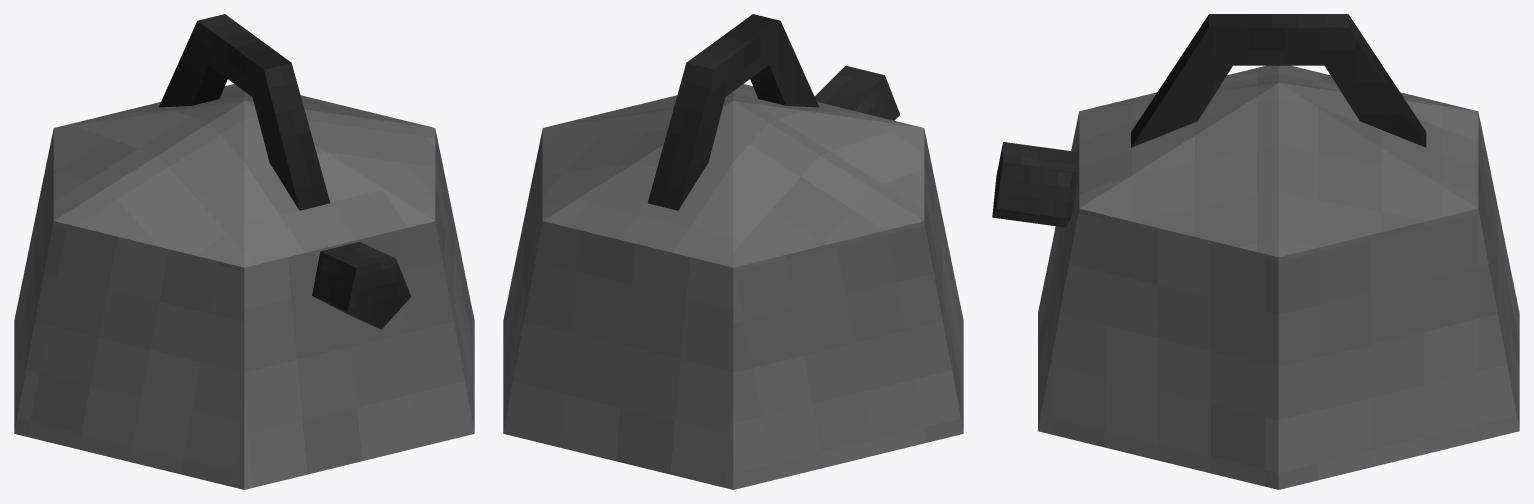
File: Kettle.fbx
3 renders of one model, left to right at view 1: azimuth 30°, elevation 25°; view 2: azimuth 150°, elevation 25°; view 3: azimuth 270°, elevation 25°, orthographic. The views are drawn at different scales.
Visible parts, largest first — view 1: Kettle; view 2: Kettle; view 3: Kettle.
Part boxes in pixels (x1=…): Kettle: x1=14, y1=14, x2=474, y2=489; Kettle: x1=503, y1=14, x2=963, y2=489; Kettle: x1=992, y1=14, x2=1519, y2=489.
Size of the model in its own units: 37.19 by 25.91 by 35.26.
